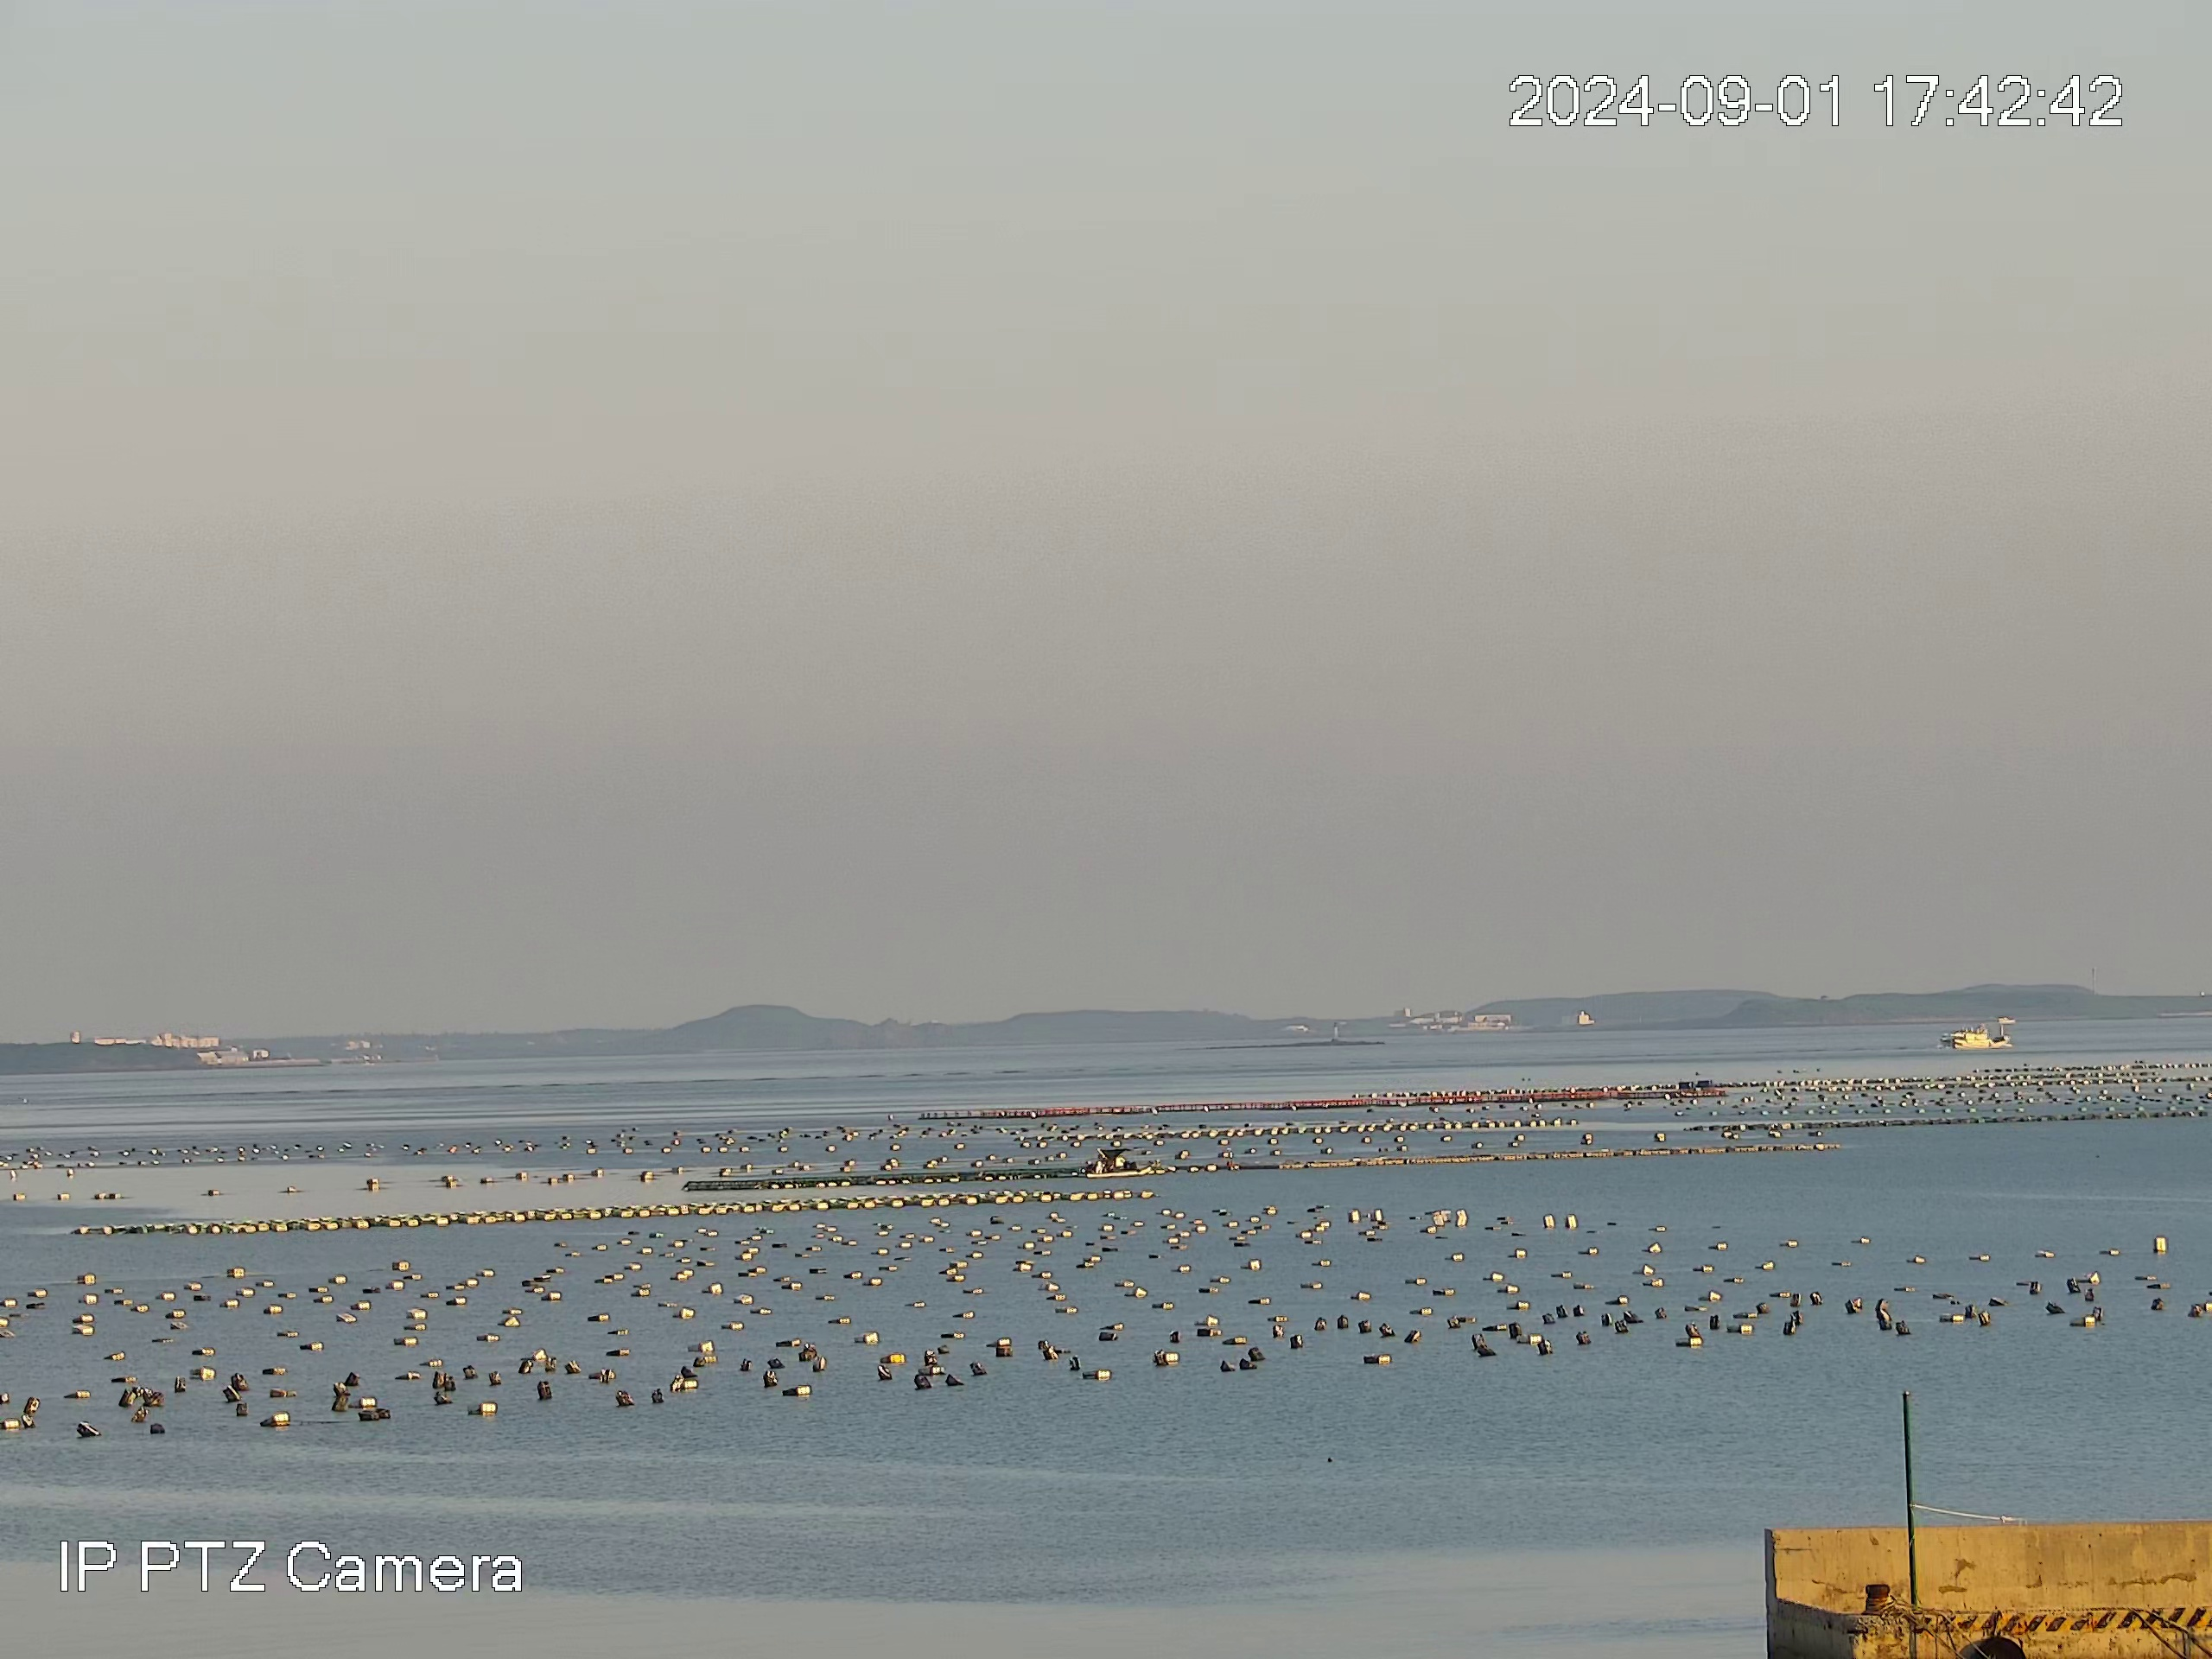boat: (1089, 1145, 1150, 1176), (1947, 1021, 2010, 1049)
